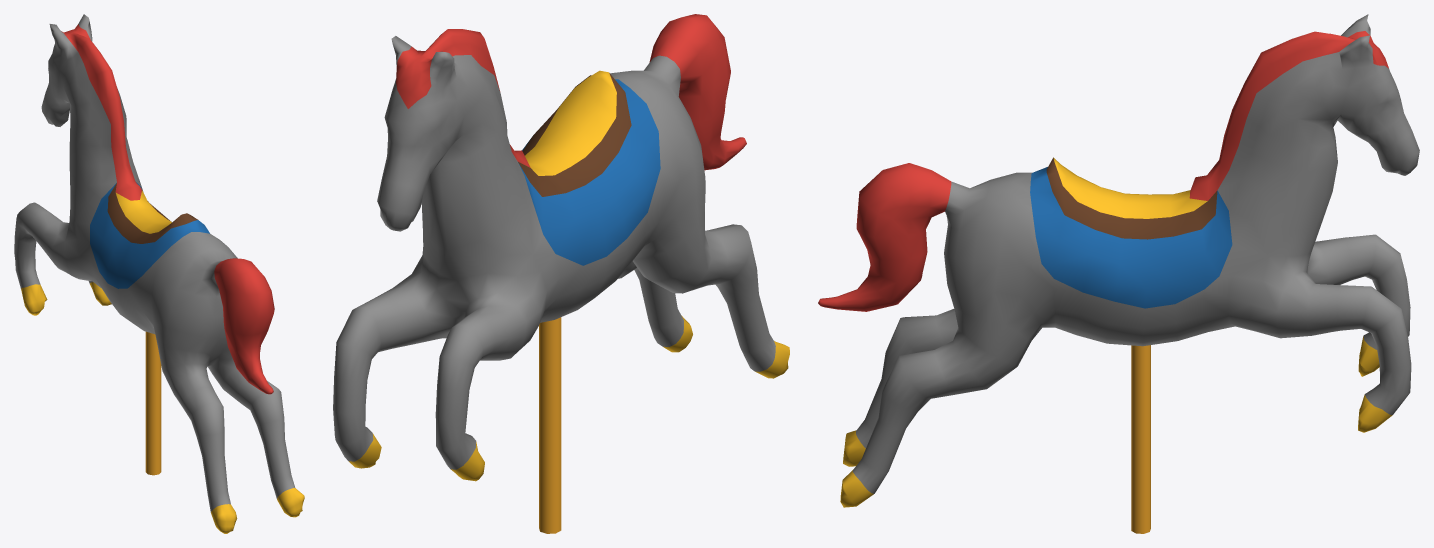
The model's file is Ngua (1).fbx.
3 renders of one model, left to right at view 1: azimuth 30°, elevation 25°; view 2: azimuth 150°, elevation 25°; view 3: azimuth 270°, elevation 25°, orthographic. The views are drawn at different scales.
Visible parts, largest first — view 1: Ngua; view 2: Ngua; view 3: Ngua.
Boxes of the visible parts, box(x1,y1,x2,y2) form: Ngua: box(14, 14, 304, 533); Ngua: box(333, 14, 789, 533); Ngua: box(818, 14, 1419, 533).
Bounding box in the file's own units: 74.01 × 280 × 302.
